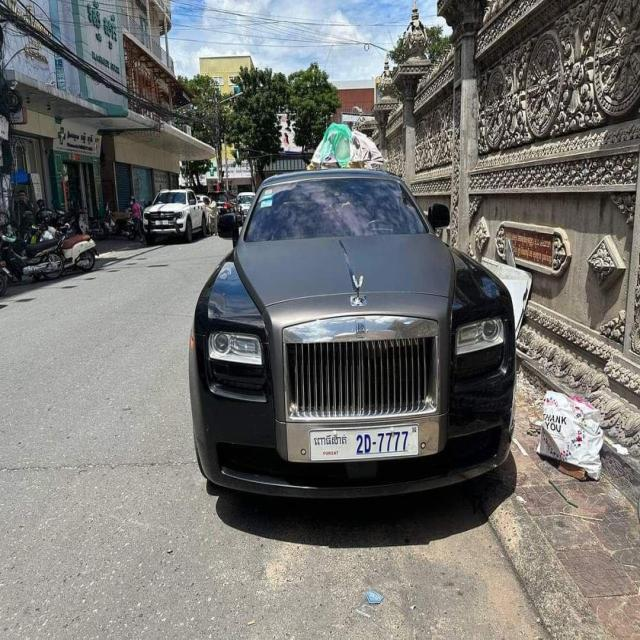Pursat: (314, 434, 348, 446)
